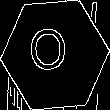O_S: (34, 28, 76, 82)
